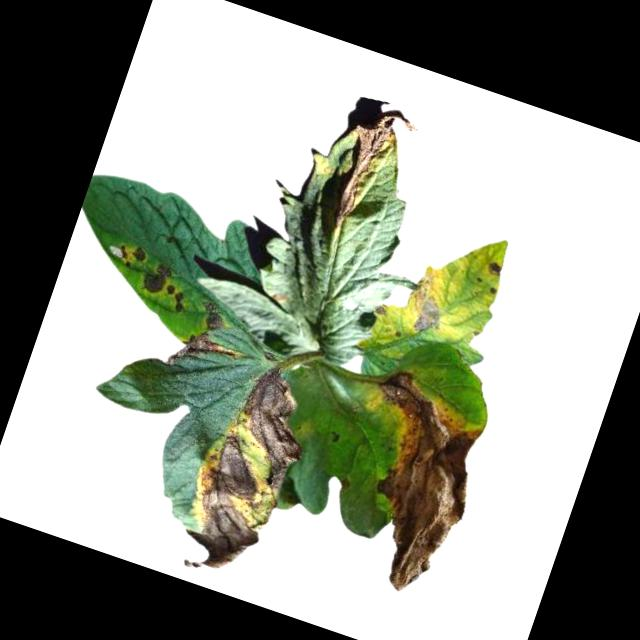Early_blight: (315, 366, 501, 604), (166, 353, 324, 594), (319, 98, 423, 246), (166, 295, 252, 384), (399, 274, 453, 340), (140, 259, 174, 299), (114, 240, 148, 271), (160, 282, 188, 314), (481, 258, 504, 281)
